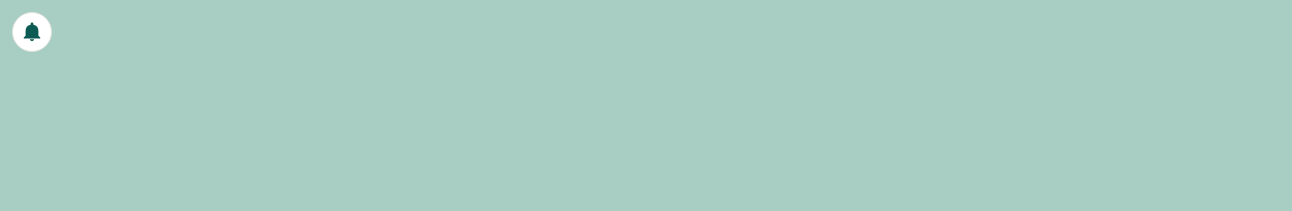
Notificaciones › sin avisos pendientes no muestra contador
Click the button named "Notificaciones": (32, 32) [12,12,52,52]
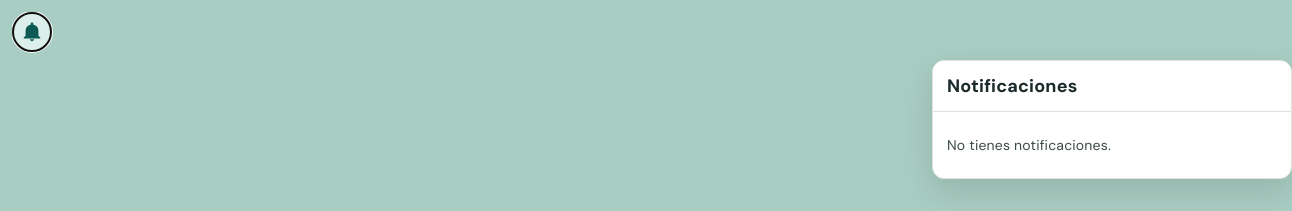
Expected: the text "No tienes notificaciones." is shown, [947,136,1111,154]
